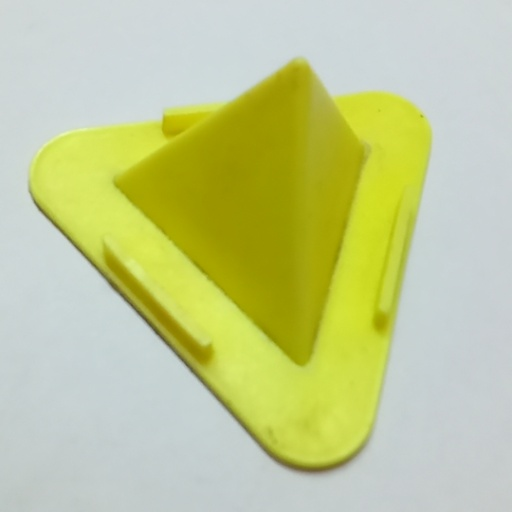yellow_cone: (20, 53, 470, 478)
